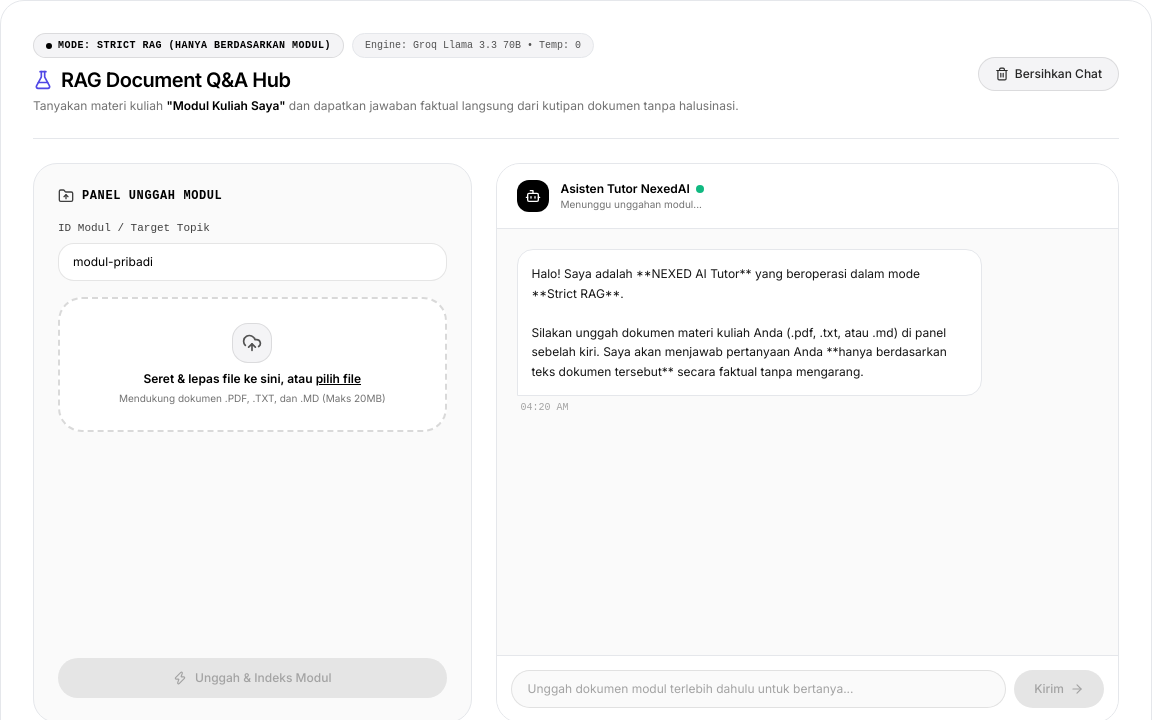
ModuleRagChat Component › should display alert when trying to chat before indexing a module
Step 1. Type "Apa itu binary search?" into the field with id "nexed-rag-chat-input" → (758, 689), box [510,670,1006,708]
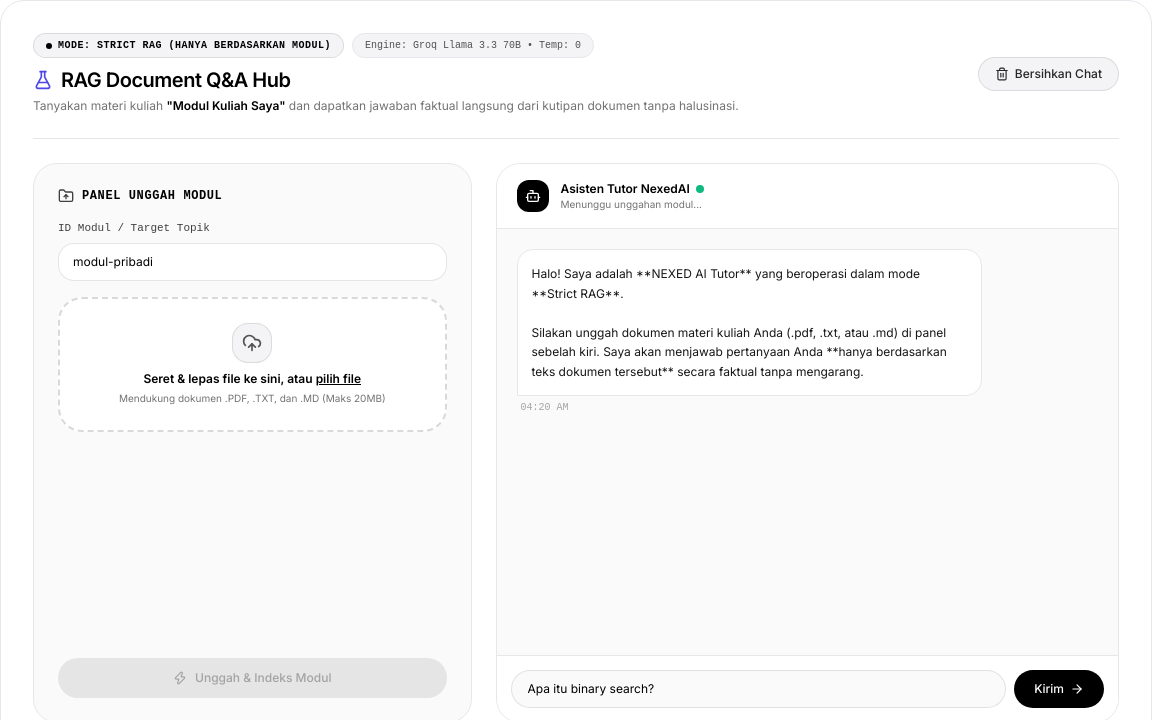
Step 2. Click the button "Kirim" → (1059, 689), box [1014,670,1104,708]
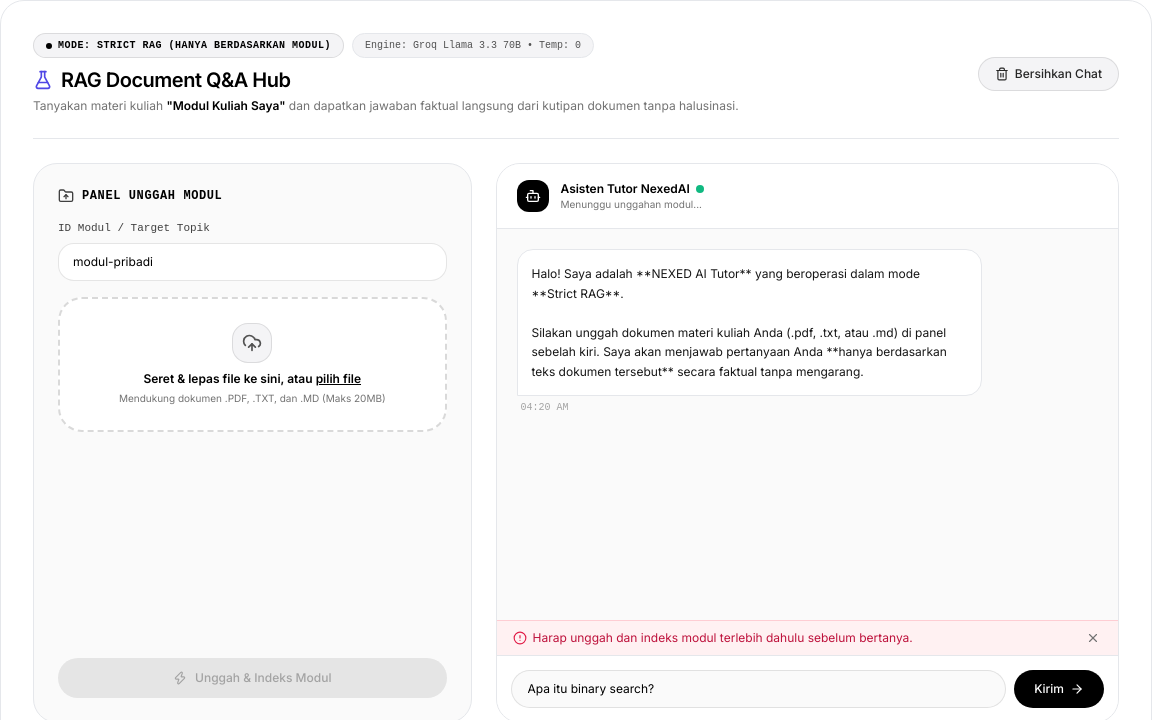
Check: the text "Harap unggah dan indeks modul terlebih dahulu sebelum bertanya." is shown, box [532,630,913,646]
